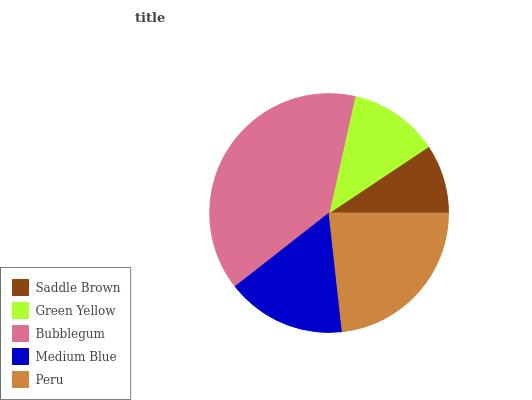legend: (0, 268, 131, 400)
sector: (208, 91, 356, 286), (329, 211, 448, 332), (232, 212, 342, 334), (332, 96, 428, 213), (331, 145, 449, 212)
